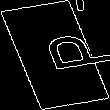P_W: (8, 30, 102, 80)
